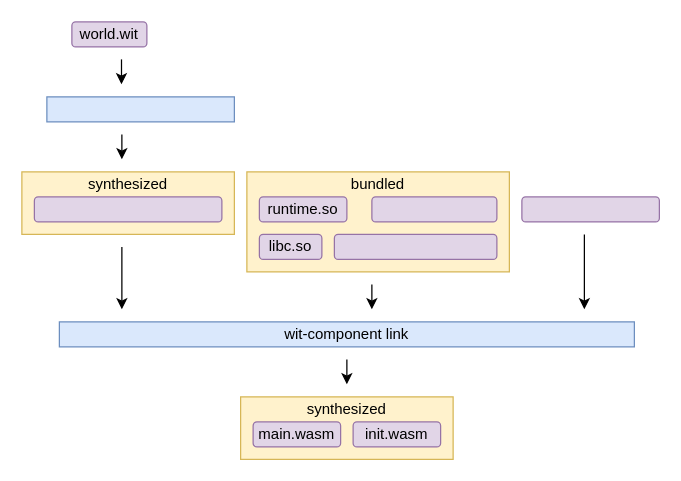
Image size: 681x481. Some labels were removed from this diagram. The centre of each missing label's shape, as x and y in pixels:
"componentize-py bindgen" goes at point (140, 109).
"generated-lift-lower.wasm" goes at point (127, 209).
"libpython3.11.so" goes at point (434, 209).
"native-extension.so" goes at point (590, 209).
"wasi_preview1.wasm" goes at point (415, 246).
